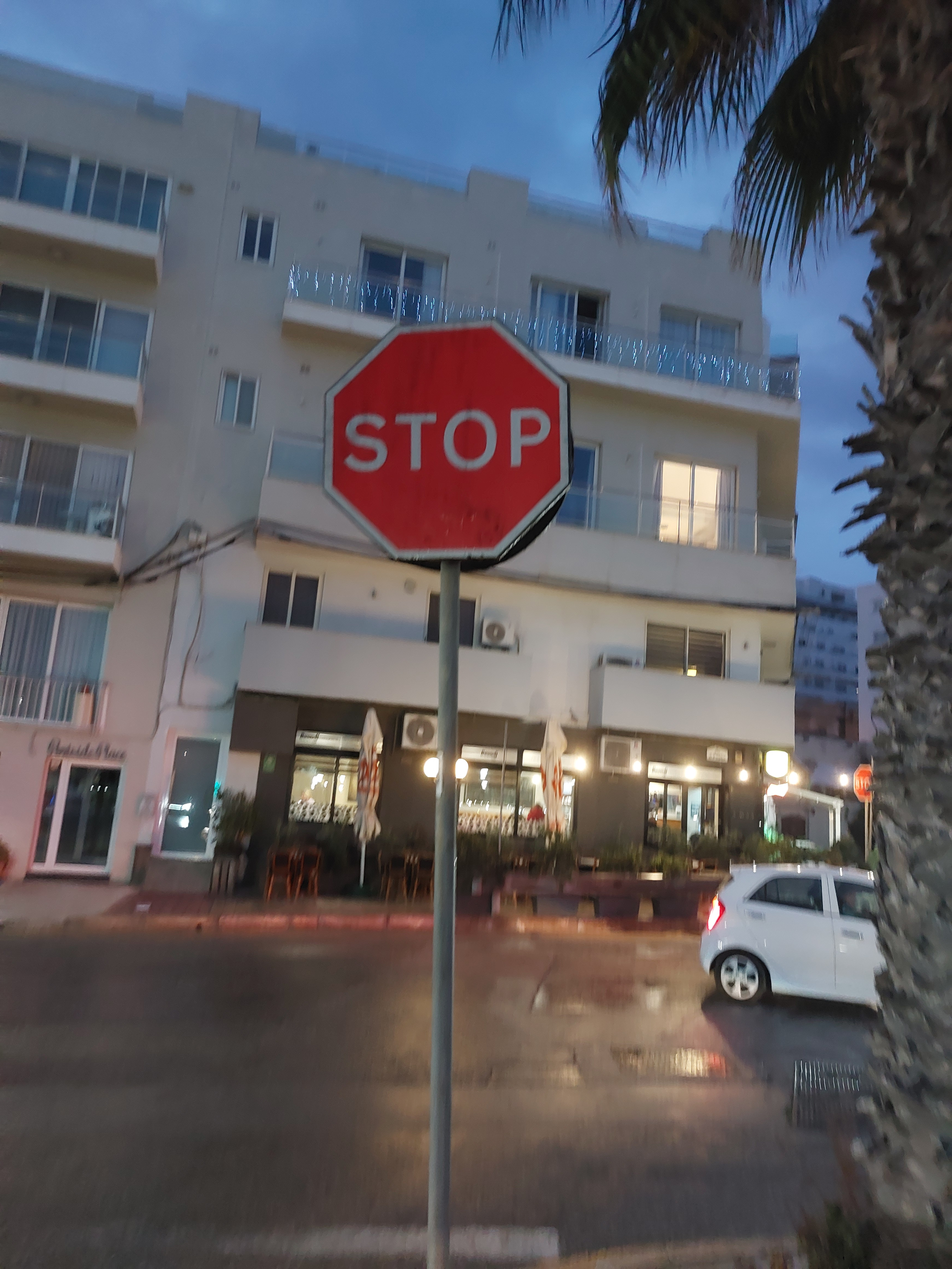Back-Unknown: (405, 492, 569, 573)
Stop Sign: (323, 319, 571, 563), (853, 764, 875, 802)
